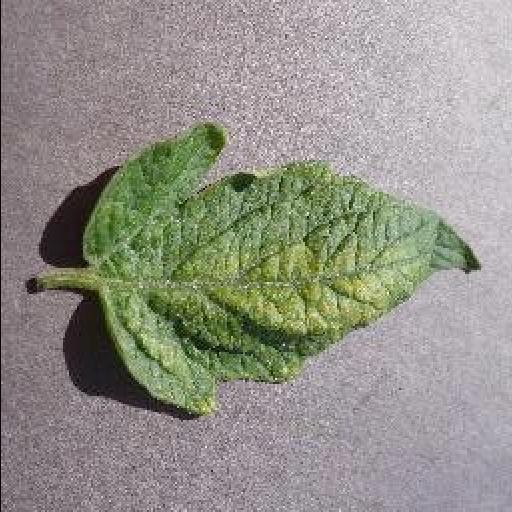disease_tomato: (80, 124, 482, 418)
